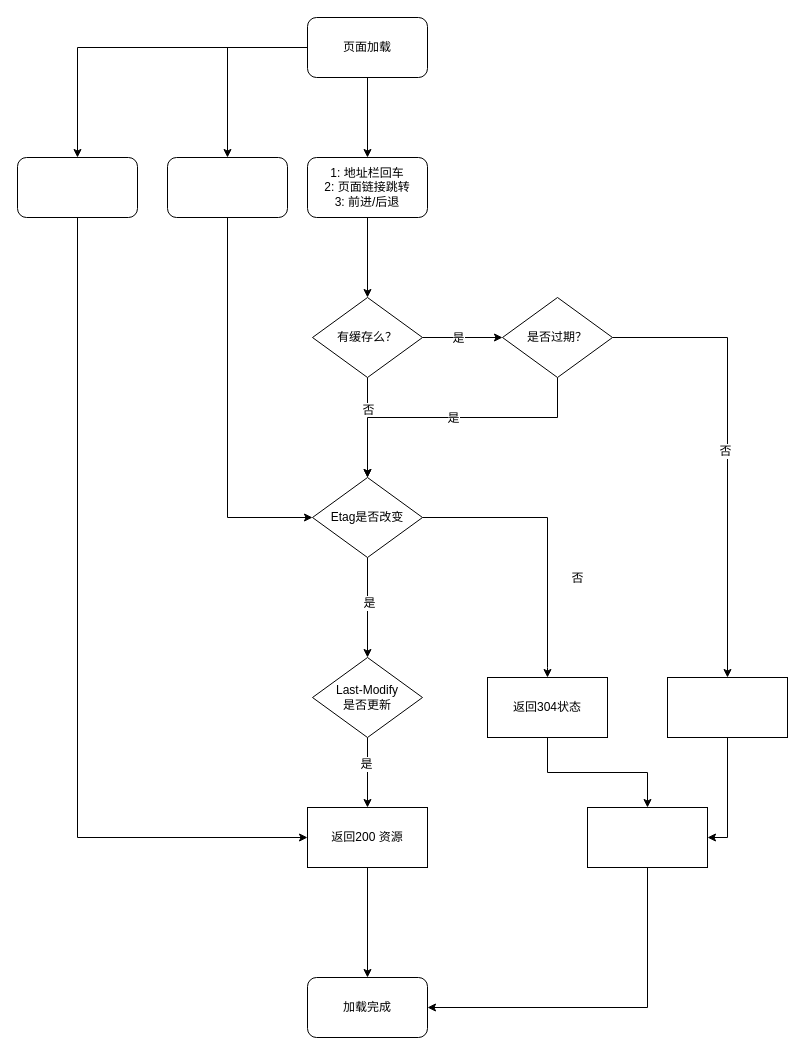
This 805x1055 diagram has some shape labels left out. Each missing label, with the box of its shape:
1: F5刷新 2: 新开窗口: (166, 156, 288, 218)
ctrl F5刷新: (16, 156, 138, 218)
读取浏览器缓存: (586, 806, 708, 868)
返回200 from cache: (666, 676, 788, 738)
